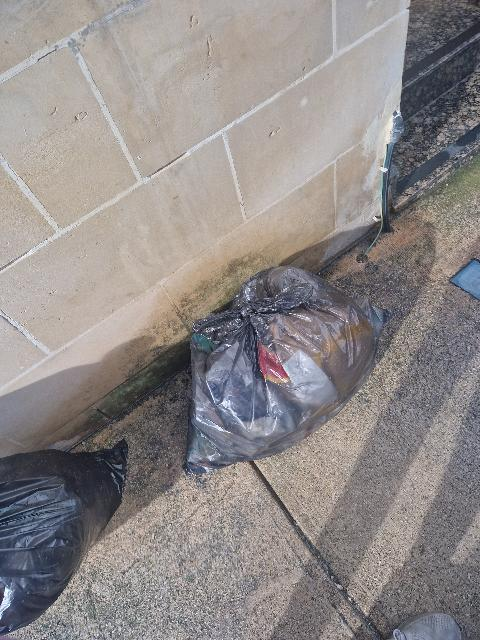Mixed -Black-: (0, 439, 128, 635)
Recyclable -Grey-: (187, 266, 388, 472)
